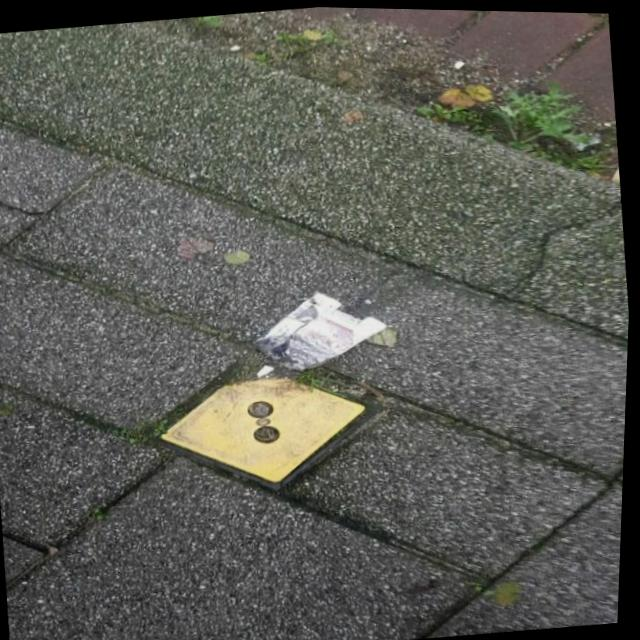Paper: (244, 280, 399, 378)
